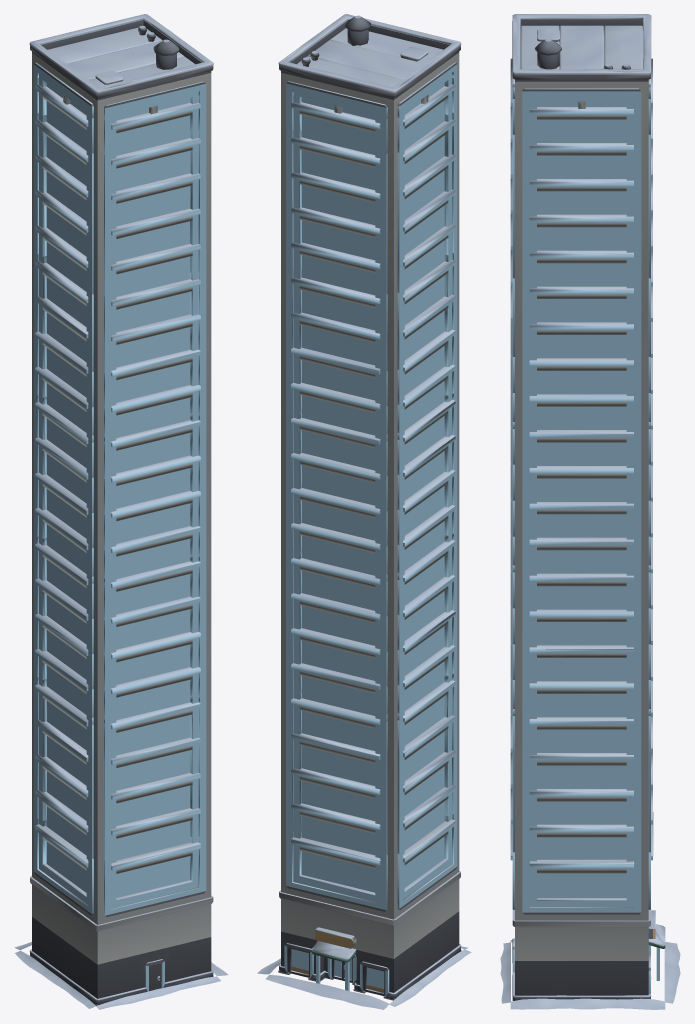
File: tower_d.glb
3 renders of one model, left to right at view 1: azimuth 30°, elevation 25°; view 2: azimuth 150°, elevation 25°; view 3: azimuth 270°, elevation 25°, orthographic. The views are drawn at different scales.
Visible parts, largest first — view 1: Base, Shaft_3, Shaft_1, Shaft_2, Shaft_4, Shaft_0, Roof, Shaft_5; view 2: Base, Shaft_2, Shaft_4, Shaft_1, Shaft_0, Shaft_3, Roof, Shaft_5; view 3: Base, Shaft_4, Shaft_1, Shaft_3, Shaft_0, Shaft_2, Roof, Shaft_5.
Part boxes in pixels (x1,y1,x2,y2): Base: (14, 813, 228, 1009); Shaft_3: (32, 249, 211, 437); Shaft_1: (32, 531, 211, 719); Shaft_2: (32, 390, 211, 578); Shaft_4: (32, 108, 211, 296); Shaft_0: (32, 672, 211, 860); Roof: (29, 14, 213, 120); Shaft_5: (32, 73, 211, 155); Base: (257, 808, 471, 1009); Shaft_2: (281, 388, 459, 575); Shaft_4: (281, 107, 459, 295); Shaft_1: (281, 528, 459, 715); Shaft_0: (281, 668, 459, 855); Shaft_3: (281, 248, 459, 435); Roof: (278, 14, 461, 119); Shaft_5: (281, 72, 459, 154); Base: (500, 812, 680, 1009); Shaft_4: (510, 106, 652, 282); Shaft_1: (510, 537, 652, 712); Shaft_3: (510, 250, 652, 425); Shaft_0: (510, 681, 652, 856); Shaft_2: (510, 394, 652, 569); Roof: (512, 14, 651, 102); Shaft_5: (510, 58, 652, 138).
Size of what is drawn, in the model's own units: 16.11 by 100 by 17.29.
